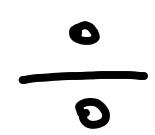div: (19, 21, 148, 129)
